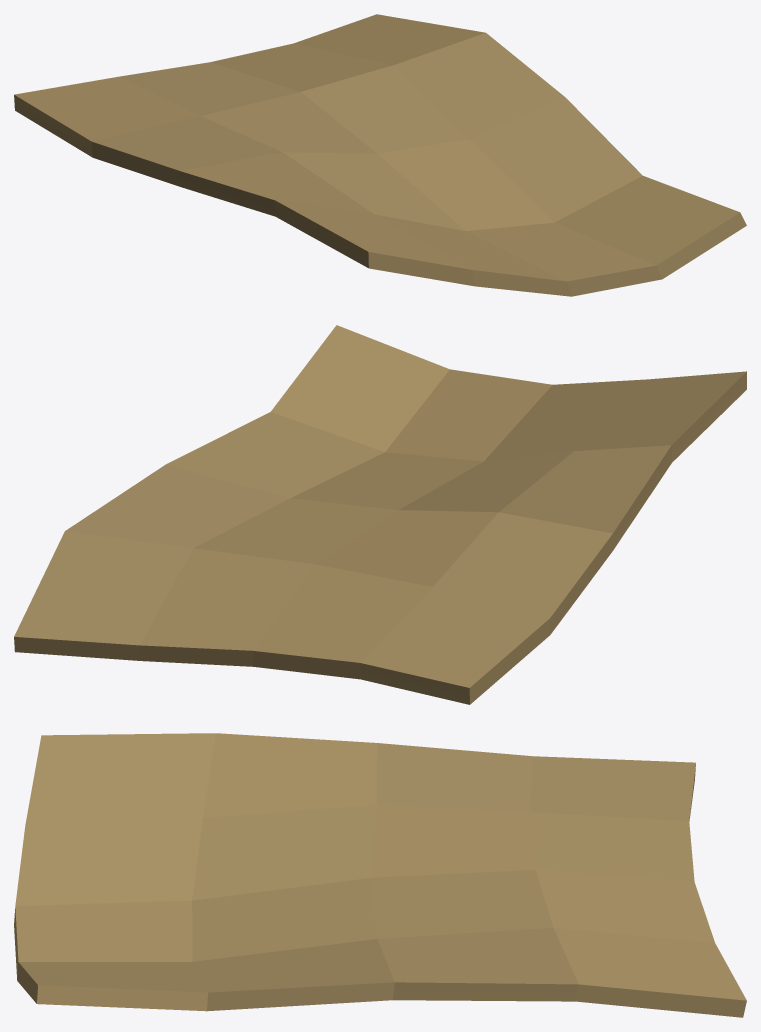
The model's file is page1.fbx.
3 renders of one model, top to bottom at view 1: azimuth 30°, elevation 25°; view 2: azimuth 150°, elevation 25°; view 3: azimuth 270°, elevation 25°, orthographic. The views are drawn at different scales.
Visible parts, largest first — view 1: page1; view 2: page1; view 3: page1.
Boxes of the visible parts, bbox=[...] form: page1: bbox=[14, 14, 746, 296]; page1: bbox=[14, 325, 746, 704]; page1: bbox=[14, 733, 746, 1017].
Size of the model in its own units: 59.11 by 13.06 by 80.63.
